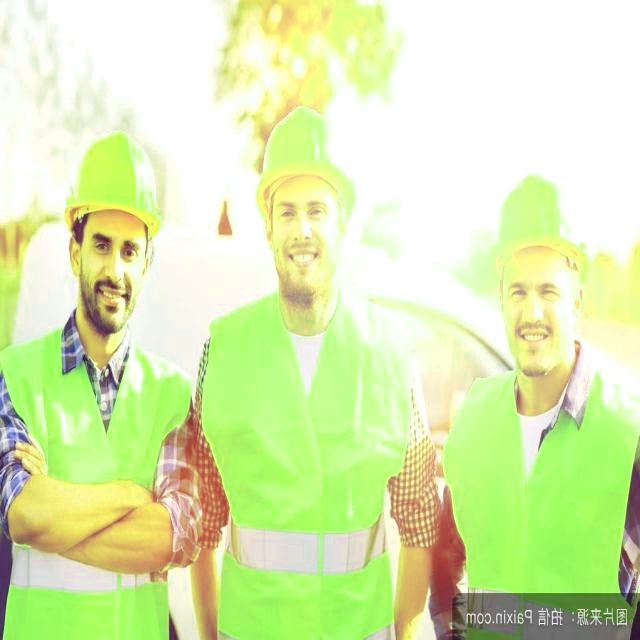Con_Casco: (489, 176, 587, 373), (63, 132, 160, 324), (255, 103, 350, 288)
Con_Chaleco: (192, 299, 412, 640), (0, 336, 189, 639)
